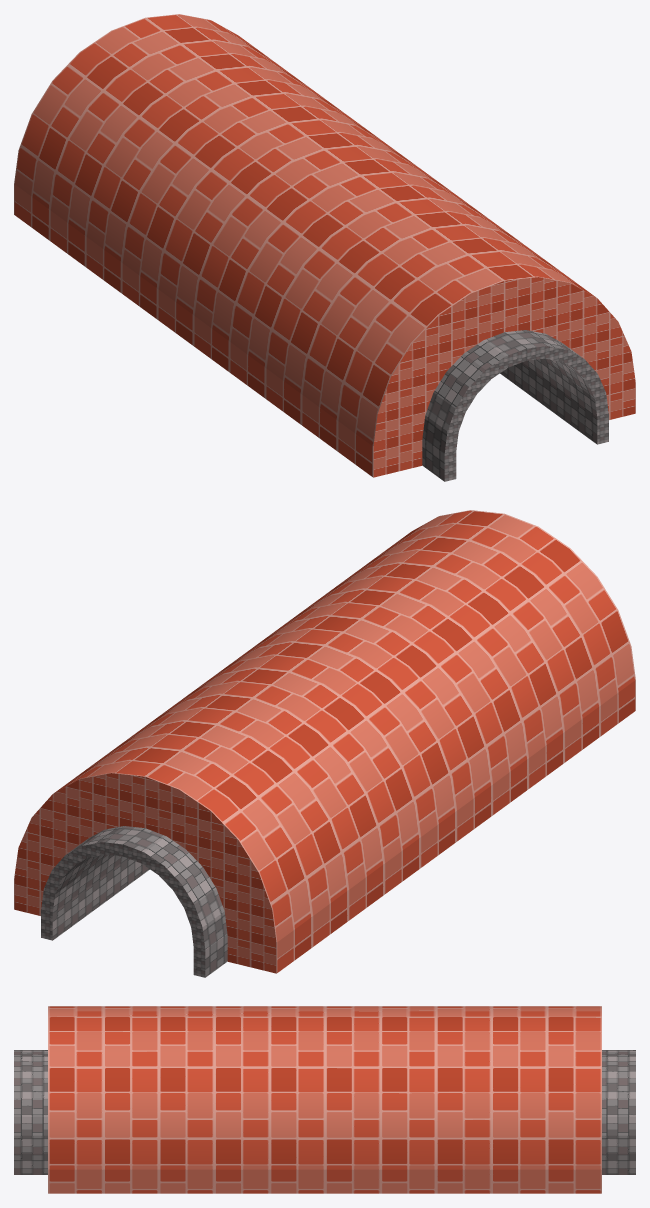
The model's file is tunnel.FBX.
3 views of the same model, one above another, from view 1: azimuth 30°, elevation 25°; view 2: azimuth 150°, elevation 25°; view 3: azimuth 270°, elevation 25° (orthographic). The views are drawn at different scales.
Parts seen in each view (by area): view 1: tunnel_exterior, Tunnel; view 2: tunnel_exterior, Tunnel; view 3: tunnel_exterior, Tunnel.
Boxes of the visible parts, x1,y1,x2,y2 form: tunnel_exterior: (14,14,635,477); Tunnel: (422,330,608,481); tunnel_exterior: (14,510,635,973); Tunnel: (41,826,227,977); tunnel_exterior: (48,1006,601,1193); Tunnel: (14,1050,635,1174).
Size of what is drawn, in the model's own units: 855 by 2276 by 513.
Materials: 2 (2 with a texture image).
